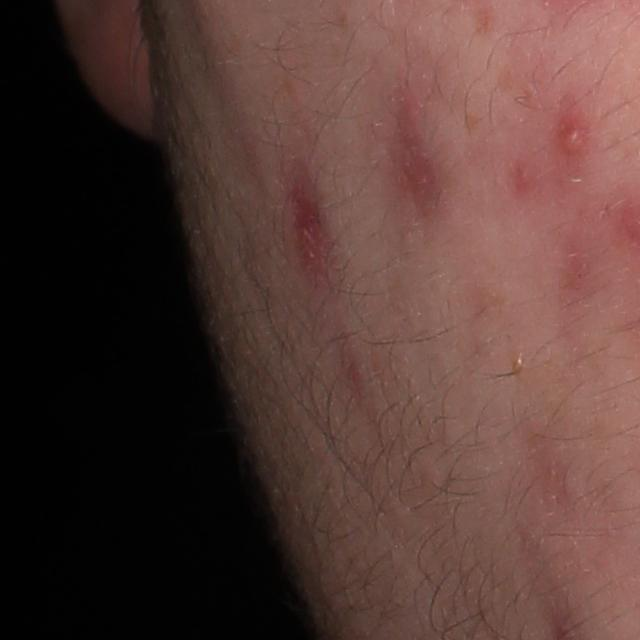atrophic_scar: (368, 110, 446, 218), (285, 165, 340, 274)
papule: (555, 109, 583, 160)
